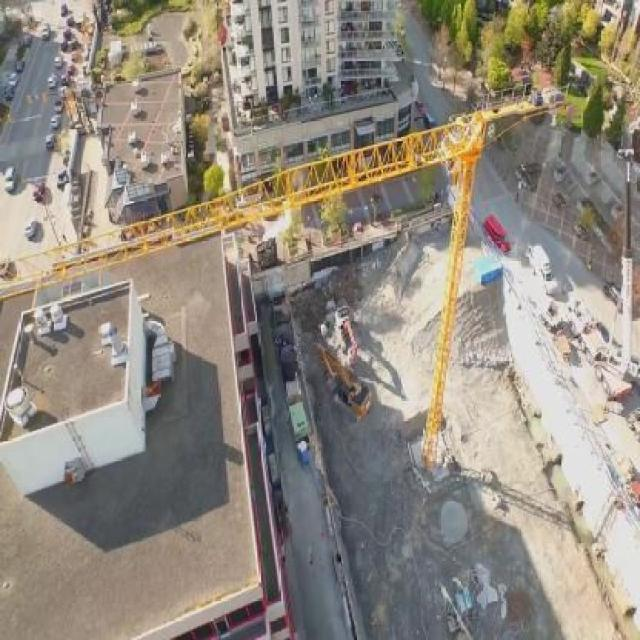excavator: (314, 343, 371, 425), (332, 299, 354, 363)
